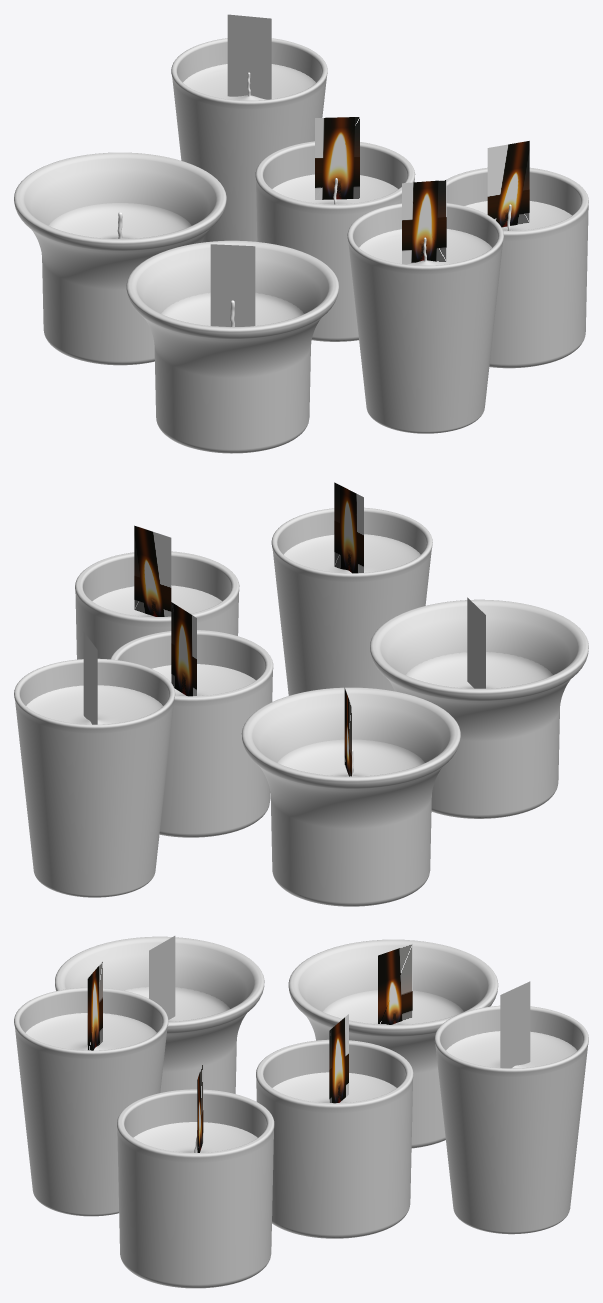
The model's file is candal cups.fbx.
3 renders of one model, top to bottom at view 1: azimuth 30°, elevation 25°; view 2: azimuth 150°, elevation 25°; view 3: azimuth 270°, elevation 25°, orthographic. The views are drawn at different scales.
Parts seen in each view (by area): view 1: Cylinder.004, Cylinder.006, Cylinder.010, Cylinder.002, Cylinder, Cylinder.008, Cylinder.011, Plane.017, Plane.003, Plane.001, Plane.002, Plane.009 (+5 smaller); view 2: Cylinder.010, Cylinder, Cylinder.004, Cylinder.006, Cylinder.008, Cylinder.002, Cylinder.011, Cylinder.001, Cylinder.005, Plane.009, Cylinder.007, Plane.002 (+6 smaller); view 3: Cylinder.002, Cylinder, Cylinder.008, Cylinder.006, Cylinder.010, Cylinder.004, Cylinder.007, Cylinder.003, Cylinder.001, Plane.004, Cylinder.011, Plane.001 (+6 smaller).
Part boxes in pixels (x1,y1,x2,y2): Cylinder.004: [126, 240, 338, 453]; Cylinder.006: [347, 203, 503, 433]; Cylinder.010: [14, 152, 226, 365]; Cylinder.002: [446, 167, 588, 368]; Cylinder: [171, 38, 327, 242]; Cylinder.008: [255, 141, 415, 341]; Cylinder.011: [48, 203, 191, 238]; Plane.017: [210, 244, 255, 326]; Plane.003: [315, 117, 359, 199]; Plane.001: [227, 14, 271, 99]; Plane.002: [402, 180, 446, 264]; Plane.009: [487, 141, 529, 227]; Cylinder.010: [241, 687, 460, 906]; Cylinder: [14, 658, 175, 897]; Cylinder.004: [370, 599, 588, 818]; Cylinder.006: [271, 507, 432, 695]; Cylinder.008: [110, 630, 273, 837]; Cylinder.002: [75, 551, 239, 659]; Cylinder.011: [277, 739, 424, 776]; Cylinder.001: [26, 685, 162, 724]; Cylinder.005: [406, 652, 552, 688]; Plane.009: [134, 525, 171, 616]; Cylinder.007: [284, 534, 420, 573]; Plane.002: [334, 482, 363, 573]; Cylinder.002: [117, 1089, 274, 1288]; Cylinder: [434, 1005, 588, 1234]; Cylinder.008: [256, 1039, 413, 1238]; Cylinder.006: [14, 987, 168, 1216]; Cylinder.010: [288, 939, 498, 1148]; Cylinder.004: [55, 936, 264, 1093]; Cylinder.007: [26, 1013, 156, 1050]; Cylinder.003: [133, 1122, 257, 1152]; Cylinder.001: [446, 1031, 577, 1068]; Plane.004: [378, 944, 412, 1024]; Cylinder.011: [323, 990, 463, 1024]; Plane.001: [500, 981, 530, 1068].
Size of what is drawn, in the model's own units: 541 by 257 by 599.
